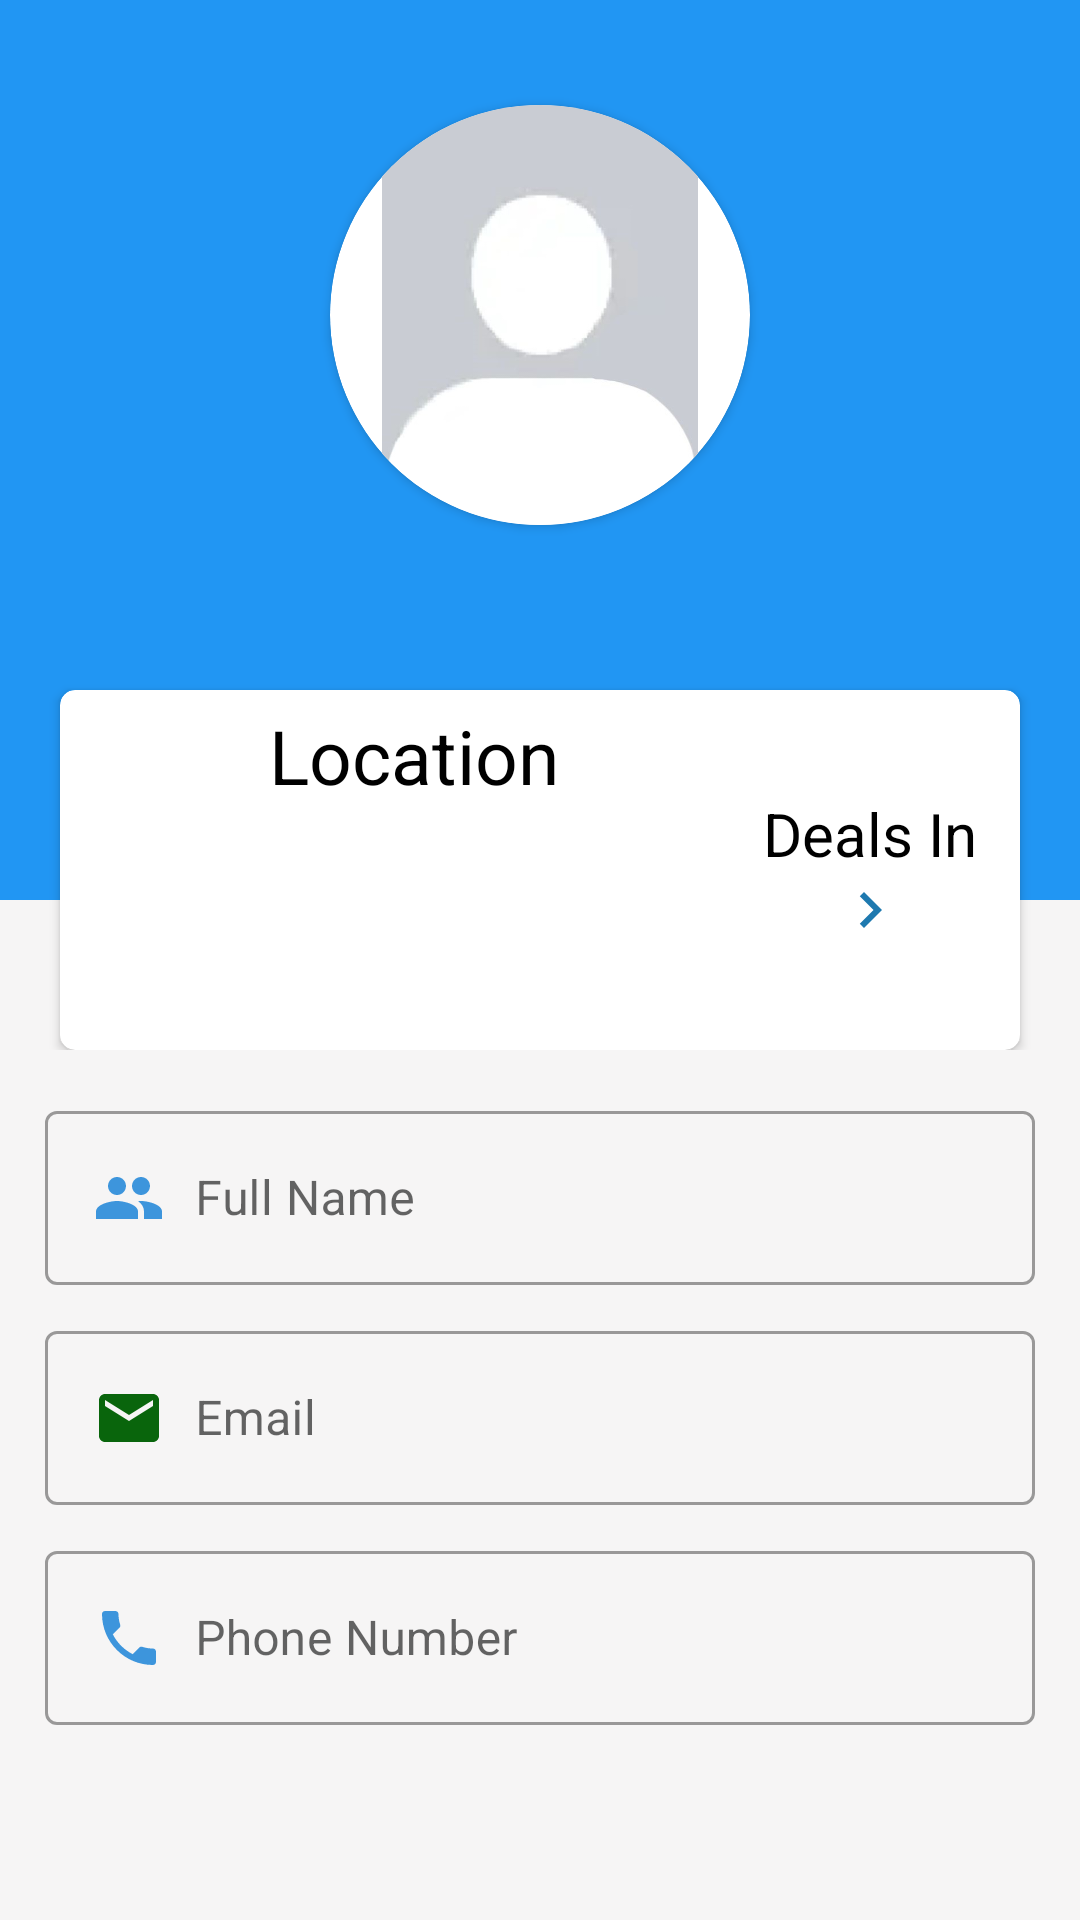

Point at icon controls on the screen. Image size 1080x1920, points as (x=x, y=y).
chevron right: (x=871, y=910)
